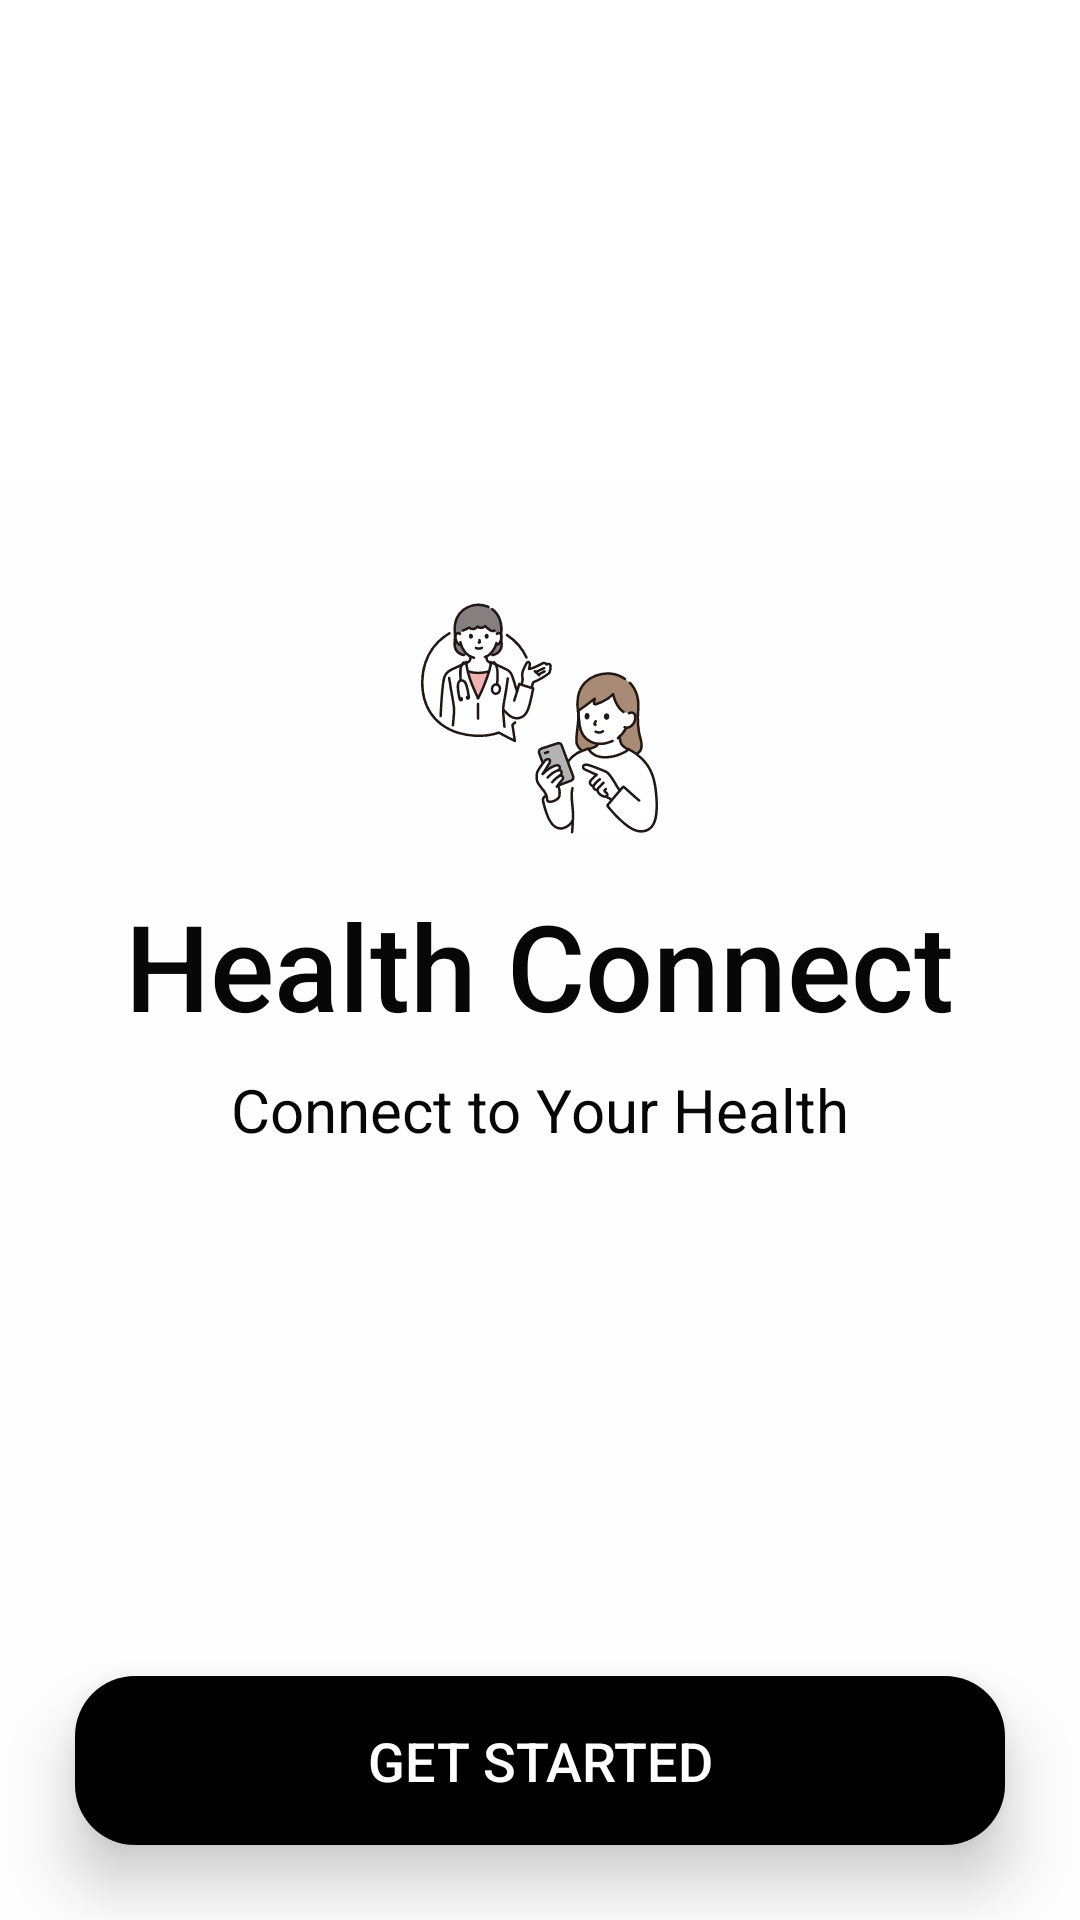

Icons on this 1080*1920 Android screen, each with the point to tap as (x=x, y=y):
online medical treatment female: (x=539, y=718)
